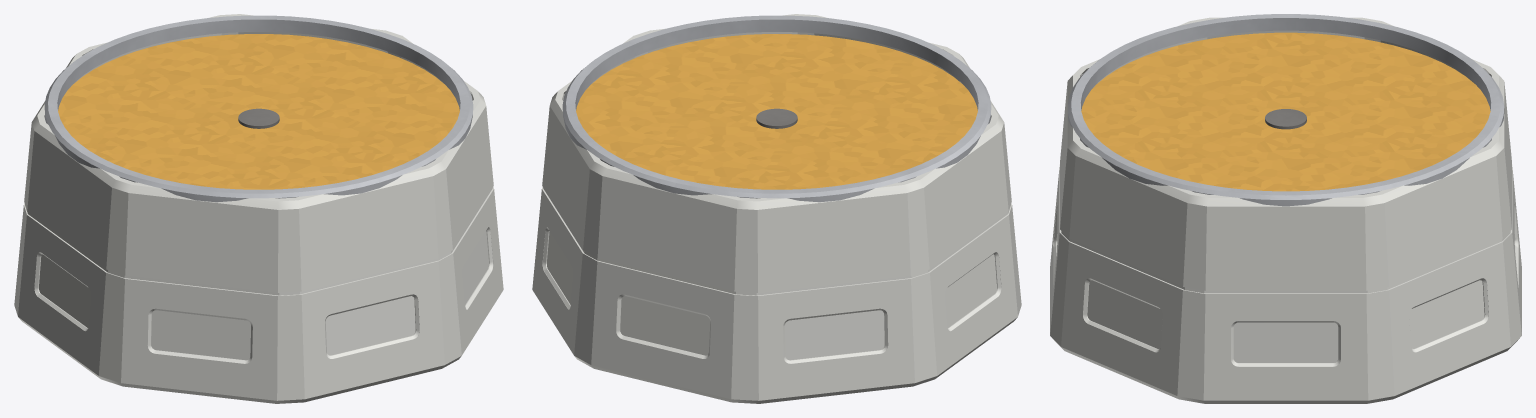
File: ax_prop_20_thrust_structure_m_x3.glb
3 renders of one model, left to right at view 1: azimuth 30°, elevation 25°; view 2: azimuth 150°, elevation 25°; view 3: azimuth 270°, elevation 25°, orthographic.
Visible parts, largest first — view 1: skirt, mli_floor, interface_ring, thrust_beams; view 2: skirt, mli_floor, interface_ring, thrust_beams; view 3: skirt, mli_floor, interface_ring, thrust_beams.
Boxes of the visible parts, bbox=[...] form: skirt: bbox=[14, 14, 503, 403]; mli_floor: bbox=[58, 34, 459, 189]; interface_ring: bbox=[44, 15, 473, 202]; thrust_beams: bbox=[238, 108, 279, 128]; skirt: bbox=[532, 14, 1021, 403]; mli_floor: bbox=[576, 34, 977, 189]; interface_ring: bbox=[562, 15, 991, 202]; thrust_beams: bbox=[756, 108, 797, 128]; skirt: bbox=[1050, 17, 1521, 403]; mli_floor: bbox=[1081, 32, 1490, 191]; interface_ring: bbox=[1067, 14, 1504, 206]; thrust_beams: bbox=[1265, 109, 1306, 129].
Size of the model in its own units: 2.7 by 1.27 by 2.7.
Materials: 4 (3 with a texture image).
